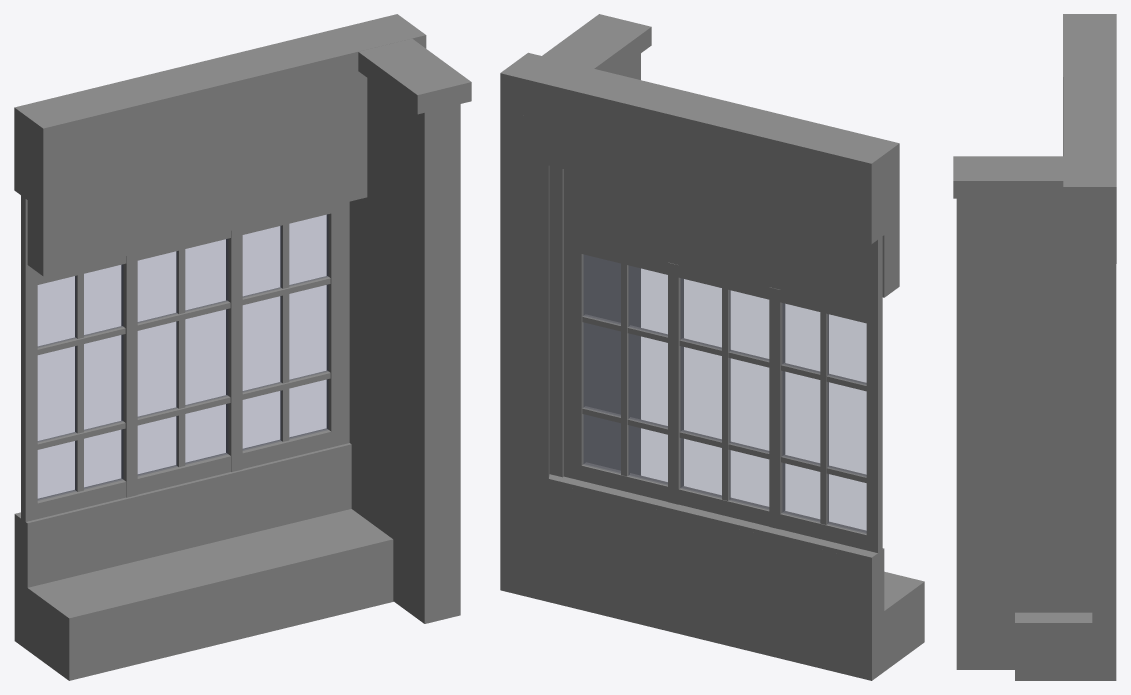
File: police_station_front_wall_type2.FBX
3 views of the same model, side by side, from view 1: azimuth 30°, elevation 25°; view 2: azimuth 150°, elevation 25°; view 3: azimuth 270°, elevation 25° (orthographic). The views are drawn at different scales.
Visible parts, largest first — view 1: police_station_front_wall_type2_002; view 2: police_station_front_wall_type2_002; view 3: police_station_front_wall_type2_002.
Boxes of the visible parts, left/top/right/bottom form: police_station_front_wall_type2_002: left=14, top=14, right=471, bottom=680; police_station_front_wall_type2_002: left=500, top=14, right=924, bottom=680; police_station_front_wall_type2_002: left=953, top=14, right=1116, bottom=680.
Bounding box in the file's own units: 1061 × 1412 × 423.
